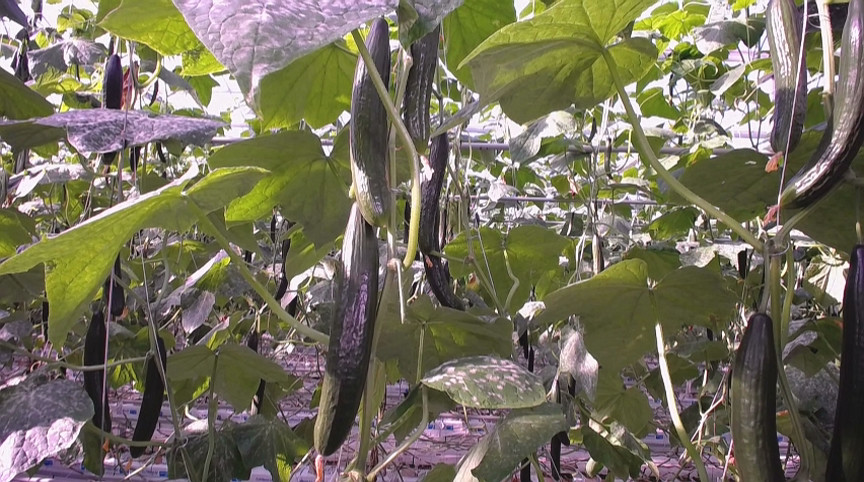cucumber: (780, 1, 864, 206), (313, 200, 377, 455), (731, 313, 787, 482), (352, 22, 391, 229), (829, 245, 863, 482), (772, 1, 808, 155), (130, 337, 167, 457), (407, 25, 441, 155), (415, 133, 450, 256), (85, 312, 108, 432), (102, 57, 122, 165)
